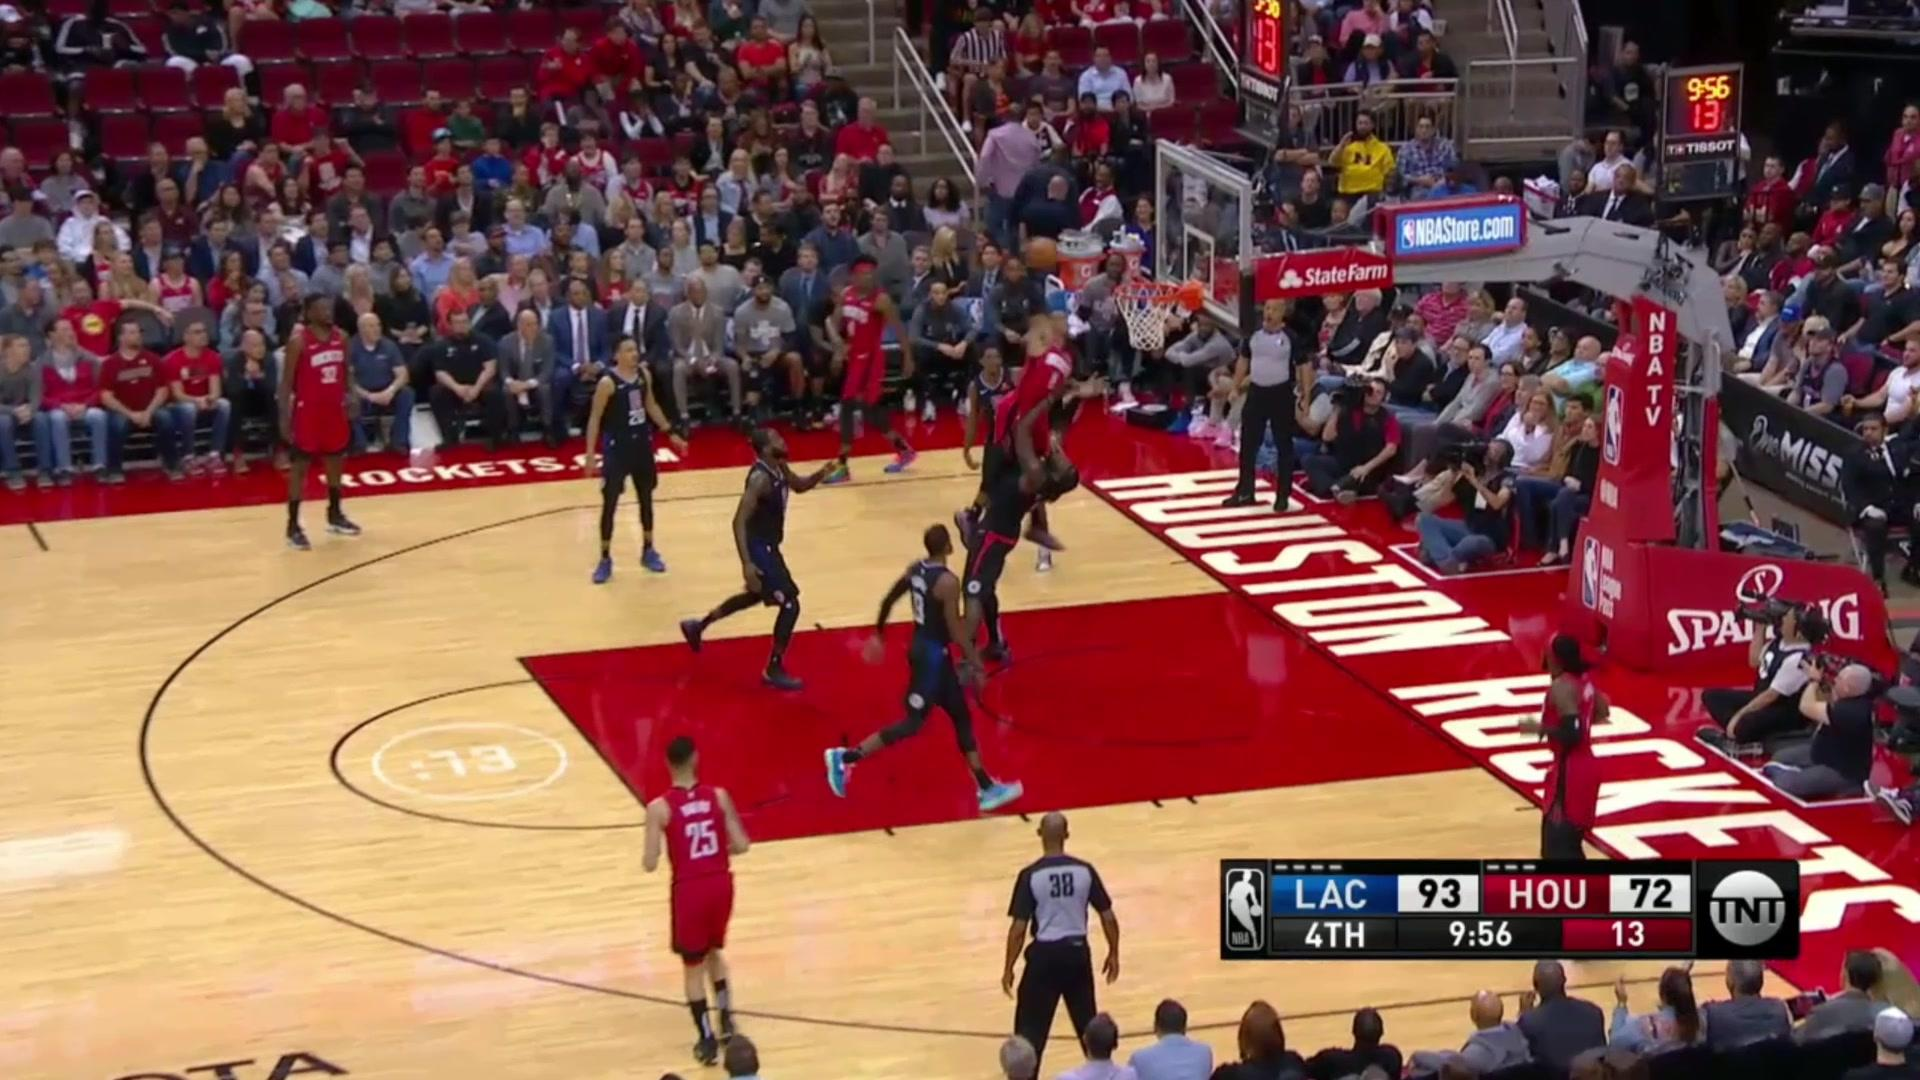foul: (852, 297, 1120, 654)
